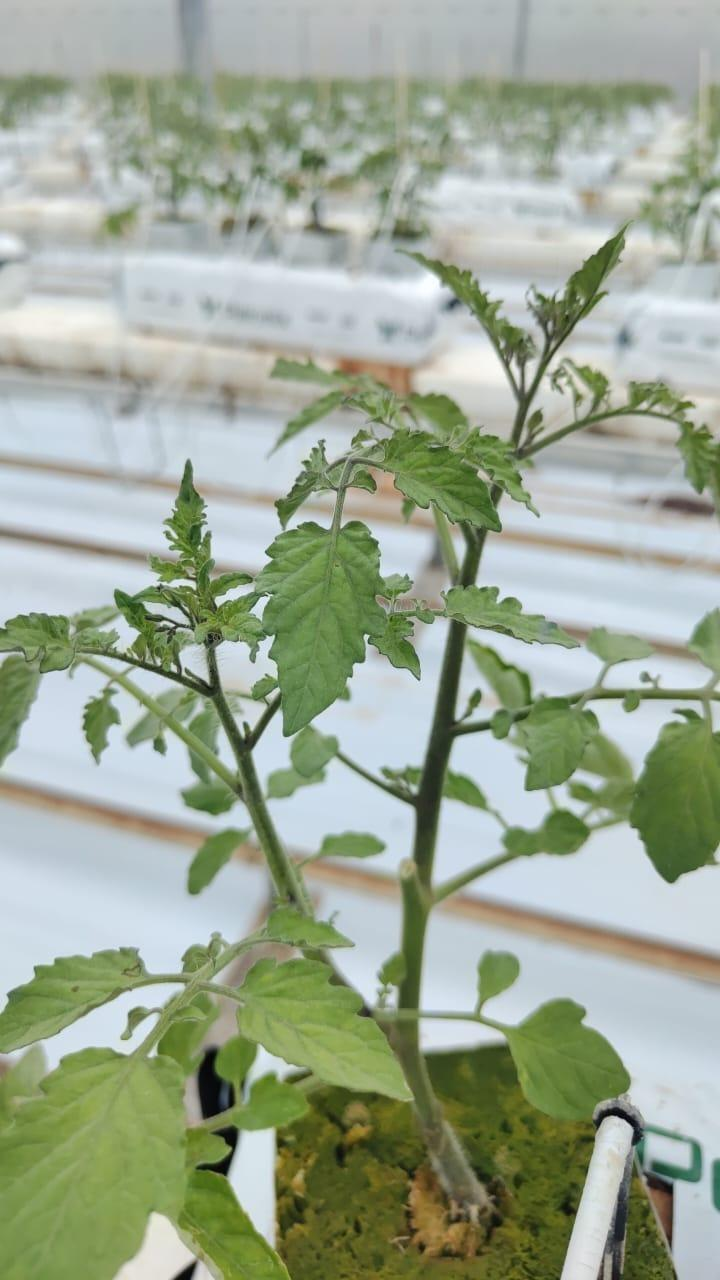Rugose leaf: (380, 430, 500, 530), (442, 585, 578, 646)
